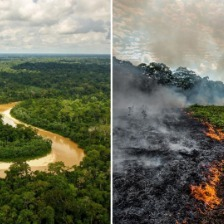incendio: (185, 164, 222, 217), (196, 122, 222, 154)
